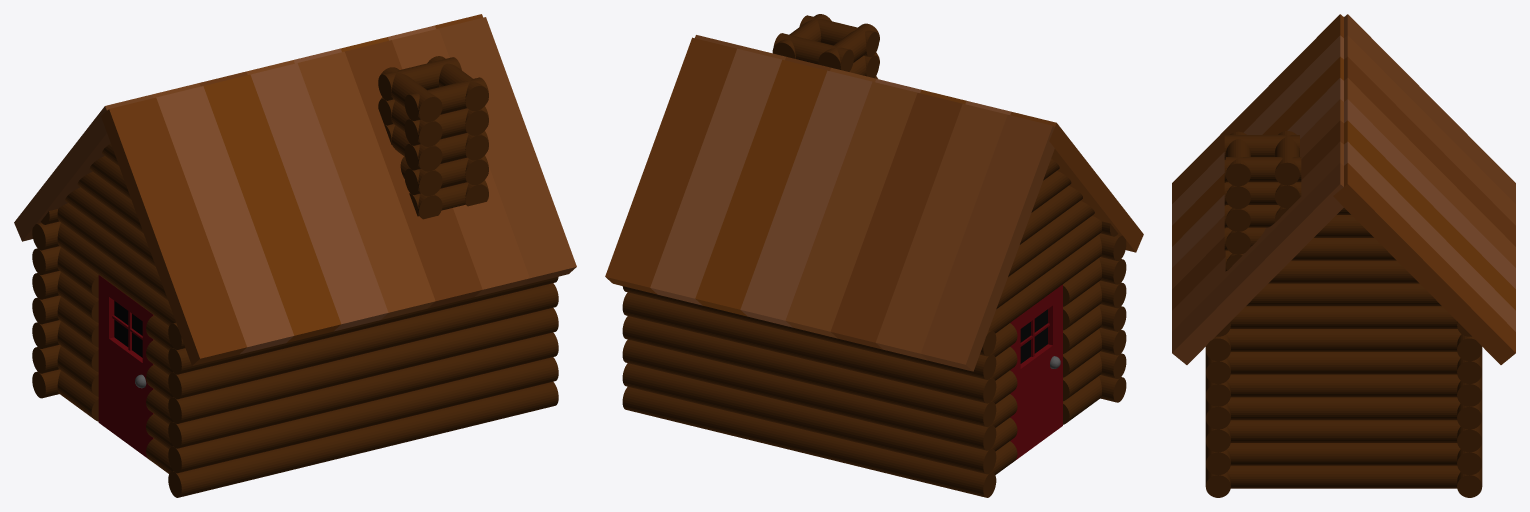
The model's file is Cabin.glb.
The picture shows the model from 3 angles, left to right: view 1: azimuth 30°, elevation 25°; view 2: azimuth 150°, elevation 25°; view 3: azimuth 270°, elevation 25°; orthographic projection. The views are drawn at different scales.
Parts seen in each view (by area): view 1: Cube, Cube.001, Cube.002, Cube.004, Cube.003, Cube.007, Cylinder.012, Cylinder.011, Cylinder.008, Cylinder.010, Cylinder.009, Cube.005 (+33 smaller); view 2: Cube.015, Cube.010, Cube.011, Cube.012, Cube.009, Cube.008, Cube.013, Cube.014, Cylinder.002, Cylinder, Cylinder.003, Cylinder.004 (+26 smaller); view 3: Cube.008, Cube.007, Cylinder.016, Cylinder.020, Cylinder.019, Cylinder.022, Cylinder.017, Cylinder.018, Cylinder.021, Cylinder.023, Cylinder.032, Cube.014 (+40 smaller).
Boxes of the visible parts, x1,y1,x2,y2 form: Cube: [101, 97, 246, 365]; Cube.001: [156, 86, 294, 354]; Cube.002: [203, 74, 341, 342]; Cube.004: [297, 51, 435, 319]; Cube.003: [250, 63, 388, 331]; Cube.007: [439, 17, 576, 285]; Cylinder.012: [168, 283, 558, 399]; Cylinder.011: [168, 308, 558, 423]; Cylinder.008: [168, 382, 558, 497]; Cylinder.010: [168, 332, 558, 448]; Cylinder.009: [168, 357, 558, 473]; Cube.005: [344, 40, 482, 308]; Cube.015: [920, 115, 1054, 371]; Cube.010: [695, 59, 826, 316]; Cube.011: [740, 70, 872, 327]; Cube.012: [785, 81, 917, 338]; Cube.009: [650, 48, 781, 305]; Cube.008: [605, 37, 736, 294]; Cube.013: [830, 93, 962, 349]; Cube.014: [875, 104, 1007, 360]; Cylinder.002: [622, 339, 996, 450]; Cylinder: [622, 387, 996, 497]; Cylinder.003: [622, 316, 996, 427]; Cylinder.004: [622, 292, 996, 403]; Cube.008: [1333, 163, 1515, 364]; Cube.007: [1172, 163, 1343, 364]; Cylinder.016: [1227, 465, 1460, 488]; Cylinder.020: [1227, 374, 1460, 397]; Cylinder.019: [1227, 397, 1460, 420]; Cylinder.022: [1226, 329, 1461, 351]; Cylinder.017: [1227, 443, 1460, 465]; Cylinder.018: [1227, 420, 1460, 442]; Cylinder.021: [1227, 352, 1460, 374]; Cylinder.023: [1230, 306, 1457, 328]; Cylinder.032: [1246, 283, 1441, 306]; Cube.014: [1344, 35, 1515, 225].
Bounding box in the file's own units: 16 × 13.78 × 13.68.
